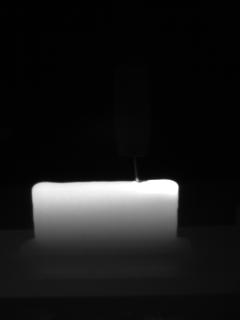tip_wire_left: (117, 152, 138, 182)
tip_wire_right: (136, 152, 149, 182)
